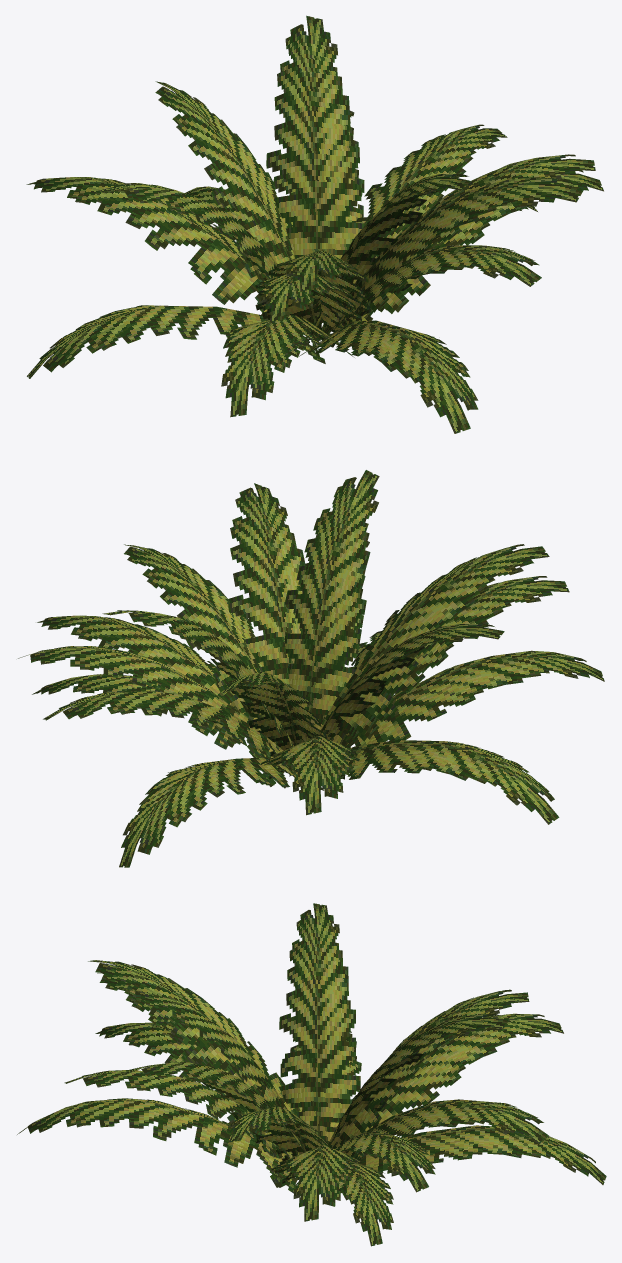
The model's file is SM_TI_Fern_0.fbx.
3 renders of one model, top to bottom at view 1: azimuth 30°, elevation 25°; view 2: azimuth 150°, elevation 25°; view 3: azimuth 270°, elevation 25°, orthographic. The views are drawn at different scales.
Visible parts, largest first — view 1: SM_TI_Fern_0; view 2: SM_TI_Fern_0; view 3: SM_TI_Fern_0.
Part boxes in pixels (<box>): SM_TI_Fern_0: <box>26,15,603,433</box>; SM_TI_Fern_0: <box>18,470,604,867</box>; SM_TI_Fern_0: <box>17,903,606,1246</box>.
Bounding box in the file's own units: 2.77 × 2.81 × 1.14.
